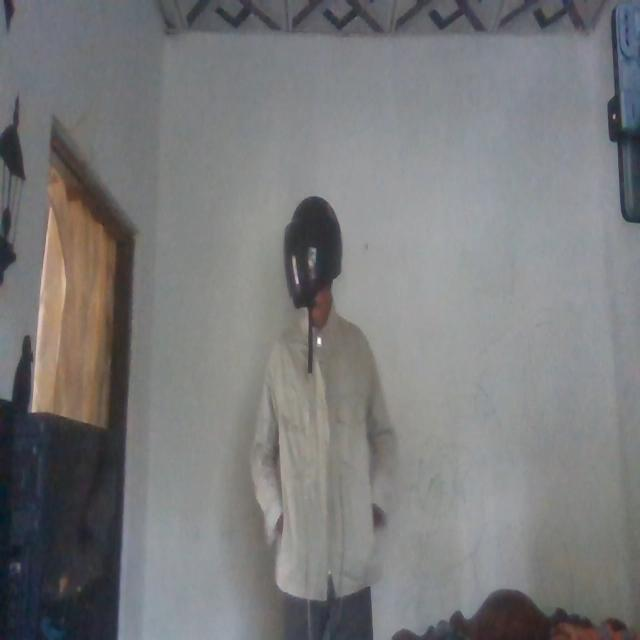Helmet_Wearer: (273, 190, 348, 327)
Jacket_Wearer: (250, 308, 401, 591)
Person: (253, 184, 395, 640)
